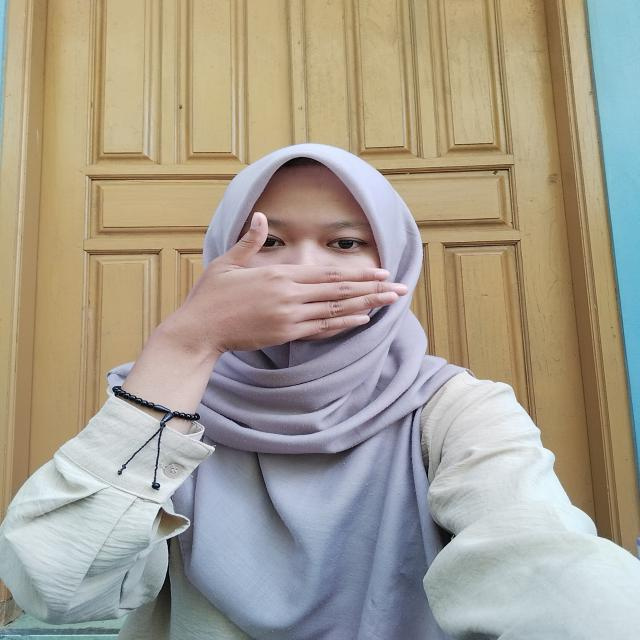buruk: (140, 201, 424, 354)
